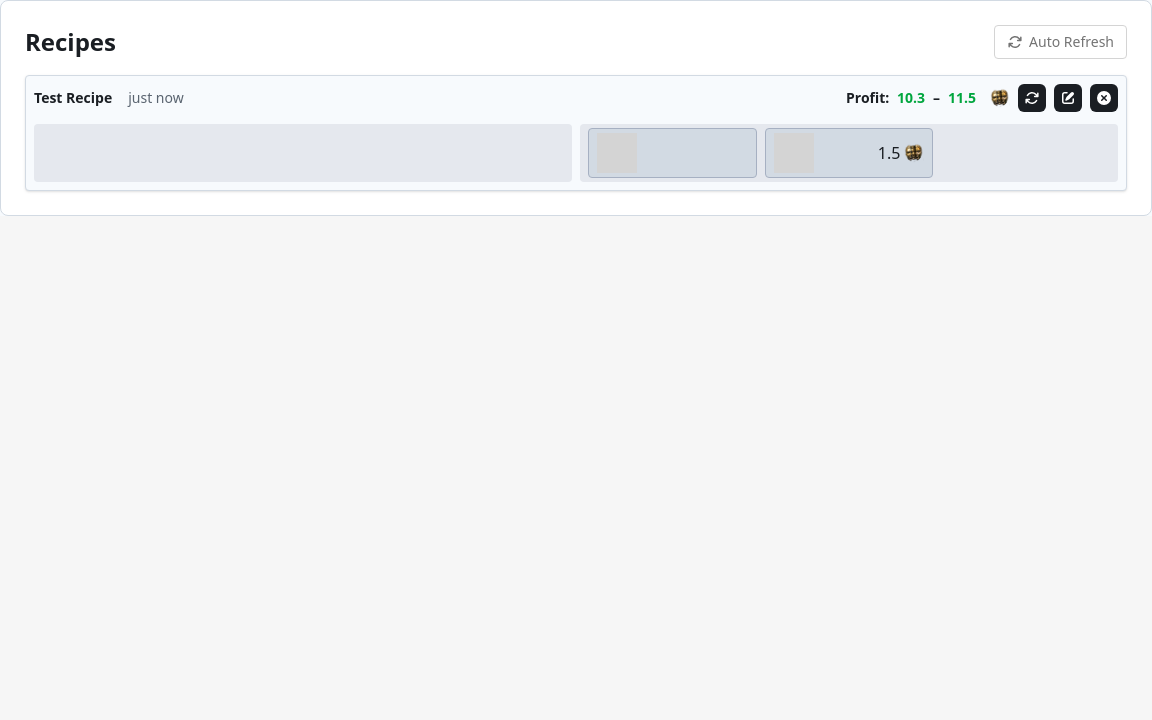
it: RecipesListPage › removes recipe from list after successful delete
Expected: the element with test id "recipe-card-test1" is shown, [25,75,1127,191]
What coordinates should you click on to do the following:
click the button with test id "delete-recipe-test1"
I would click on:
 (1104, 98)
Its box is [1090,84,1118,112].
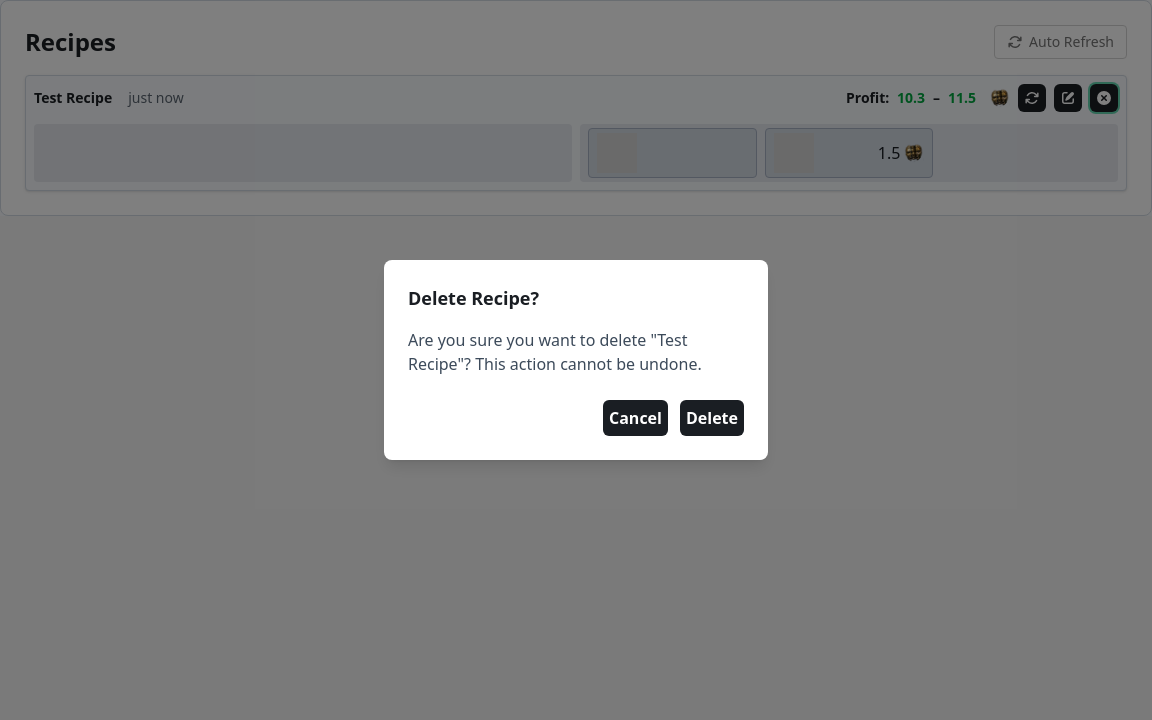
What coordinates should you click on to do the following:
click the button with test id "delete-modal-confirm-btn"
I would click on:
 (712, 418)
Its box is [680,400,744,436].
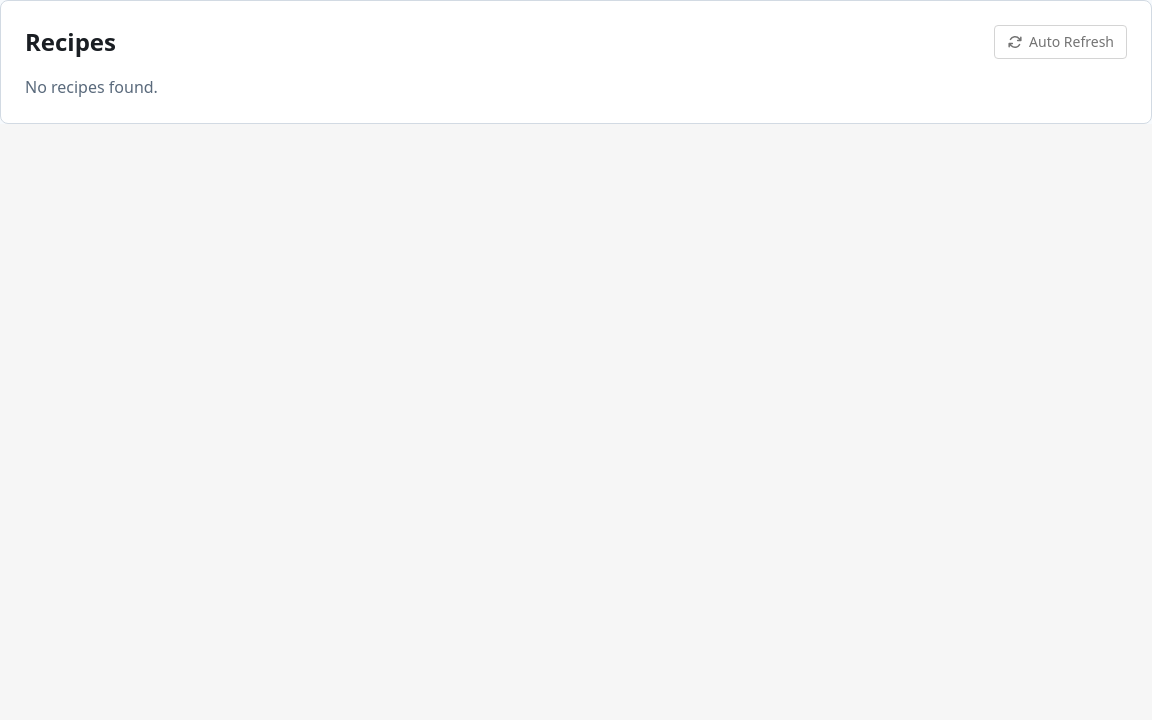
Now the element with test id "recipe-card-test1" is gone
